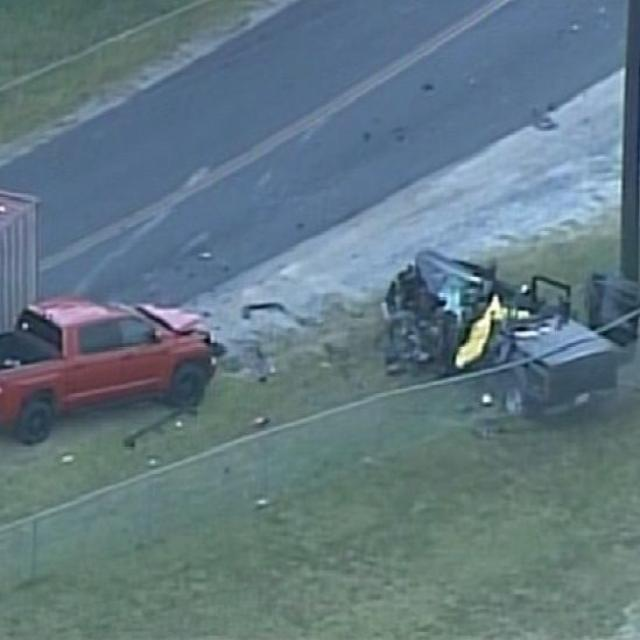traffic_incident: (369, 234, 618, 411), (0, 288, 213, 437)
